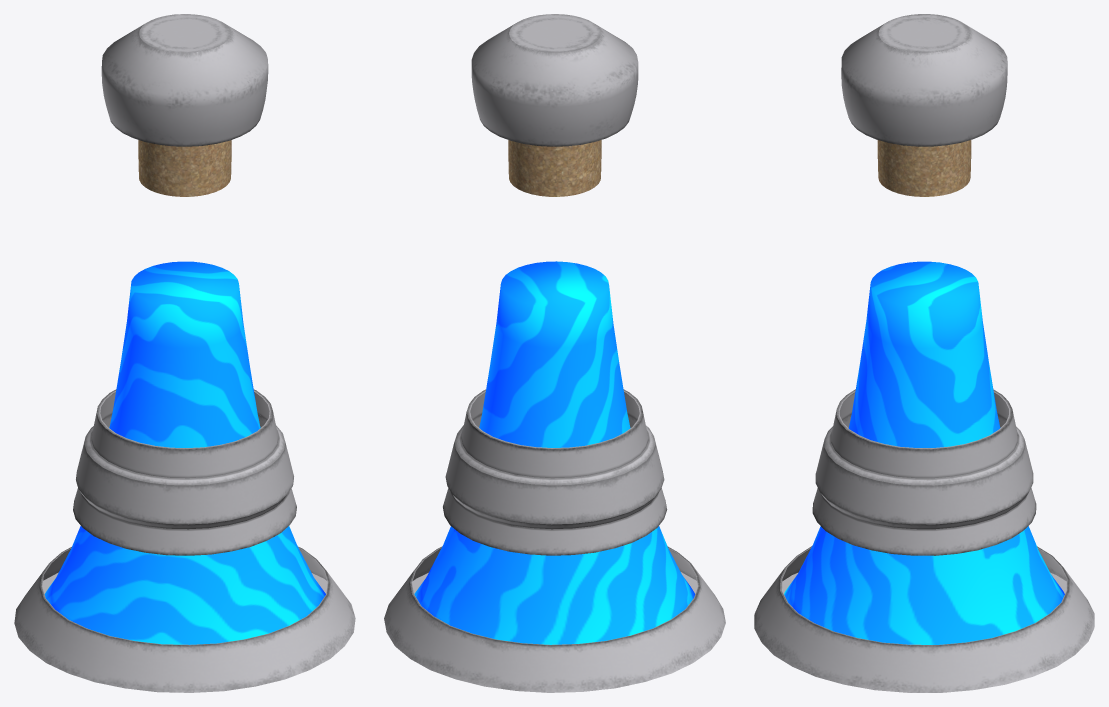
3 renders of one model, left to right at view 1: azimuth 30°, elevation 25°; view 2: azimuth 150°, elevation 25°; view 3: azimuth 270°, elevation 25°, orthographic.
Visible parts, largest first — view 1: Metal, Liquid, Cork; view 2: Metal, Liquid, Cork; view 3: Metal, Liquid, Cork.
Boxes of the visible parts, x1,y1,x2,y2 form: Metal: (14, 14, 355, 692); Liquid: (44, 261, 325, 644); Cork: (138, 140, 231, 196); Metal: (384, 14, 725, 692); Liquid: (414, 261, 695, 644); Cork: (508, 140, 601, 196); Metal: (754, 14, 1094, 692); Liquid: (784, 261, 1064, 644); Cork: (877, 140, 971, 196).
Bounding box in the file's own units: 9.55 × 18.17 × 9.55.
1 material, 1 textured.
